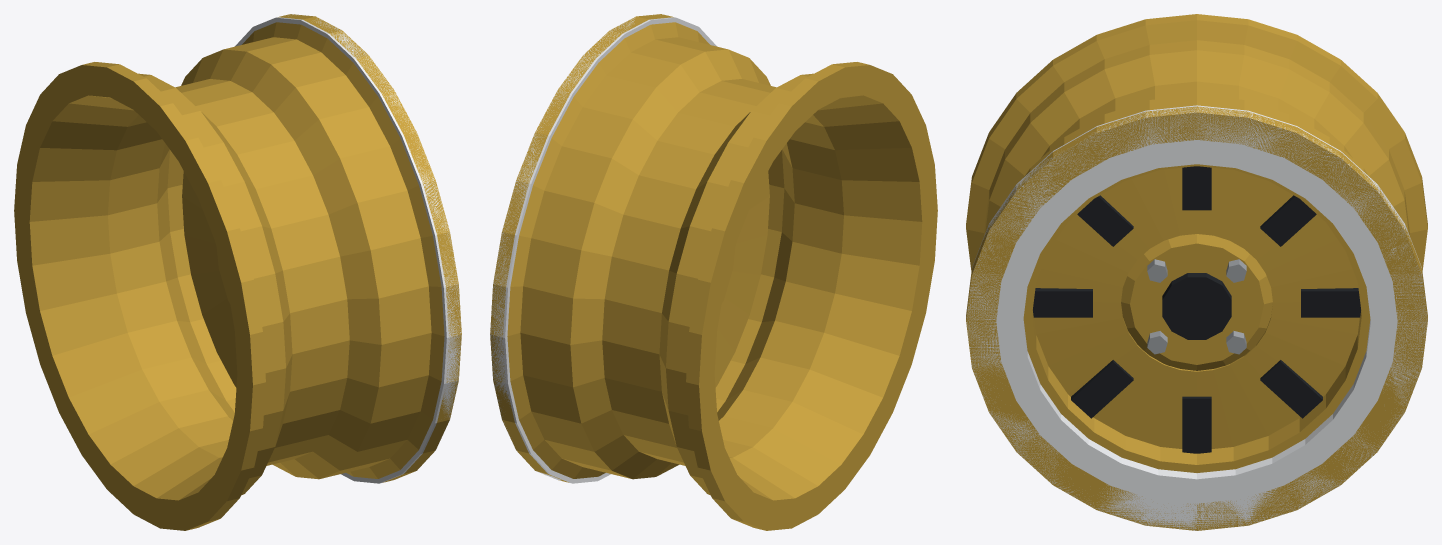
Rendered from rim_slotdish_15.glb.
3 views of the same model, side by side, from view 1: azimuth 30°, elevation 25°; view 2: azimuth 150°, elevation 25°; view 3: azimuth 270°, elevation 25° (orthographic). The views are drawn at different scales.
Parts seen in each view (by area): view 1: model; view 2: model; view 3: model.
Boxes of the visible parts, <box> form: model: <box>14,14,461,530</box>; model: <box>490,14,937,530</box>; model: <box>966,14,1427,530</box>.
Bounding box in the file's own units: 0.2085 × 0.413 × 0.413.
Materials: 4 (1 with a texture image).
